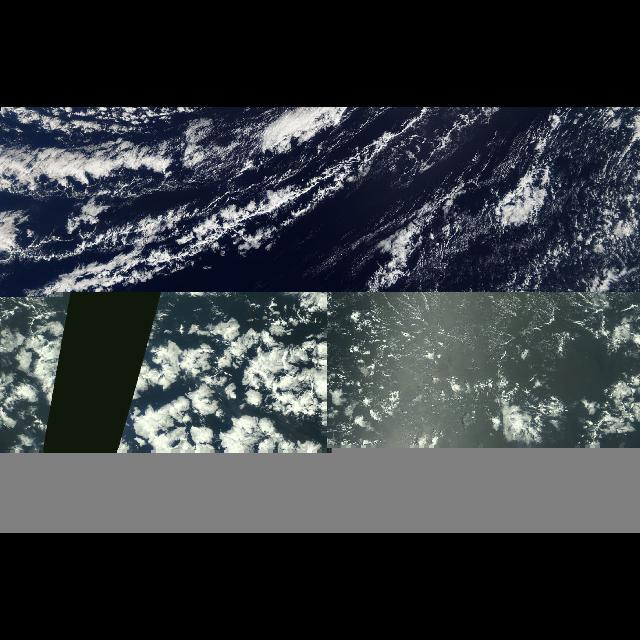Fish: (20, 168, 294, 296)
Flower: (80, 306, 318, 466)
Sugar: (560, 108, 640, 222)
